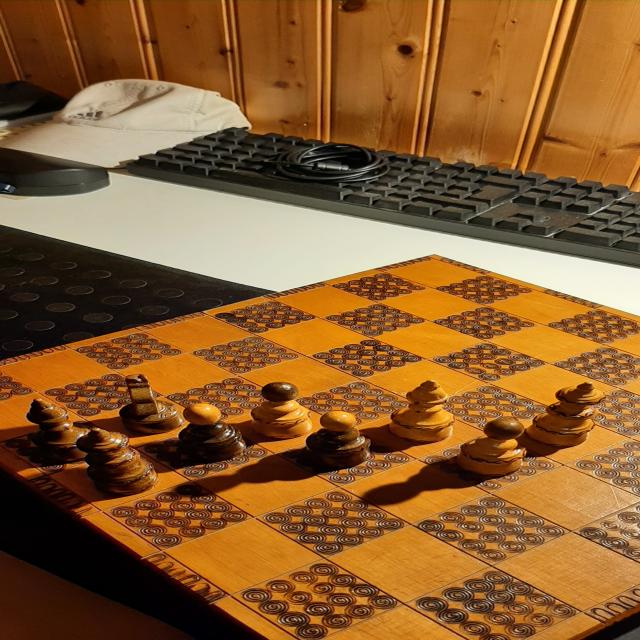black-bishop: (178, 404, 248, 457), (307, 410, 372, 466)
black-king: (74, 427, 159, 495)
black-knight: (118, 374, 184, 434)
black-queen: (24, 398, 90, 459)
white-bishop: (453, 419, 526, 477), (249, 381, 313, 440)
white-king: (524, 381, 606, 448)
white-queen: (388, 379, 456, 443)
